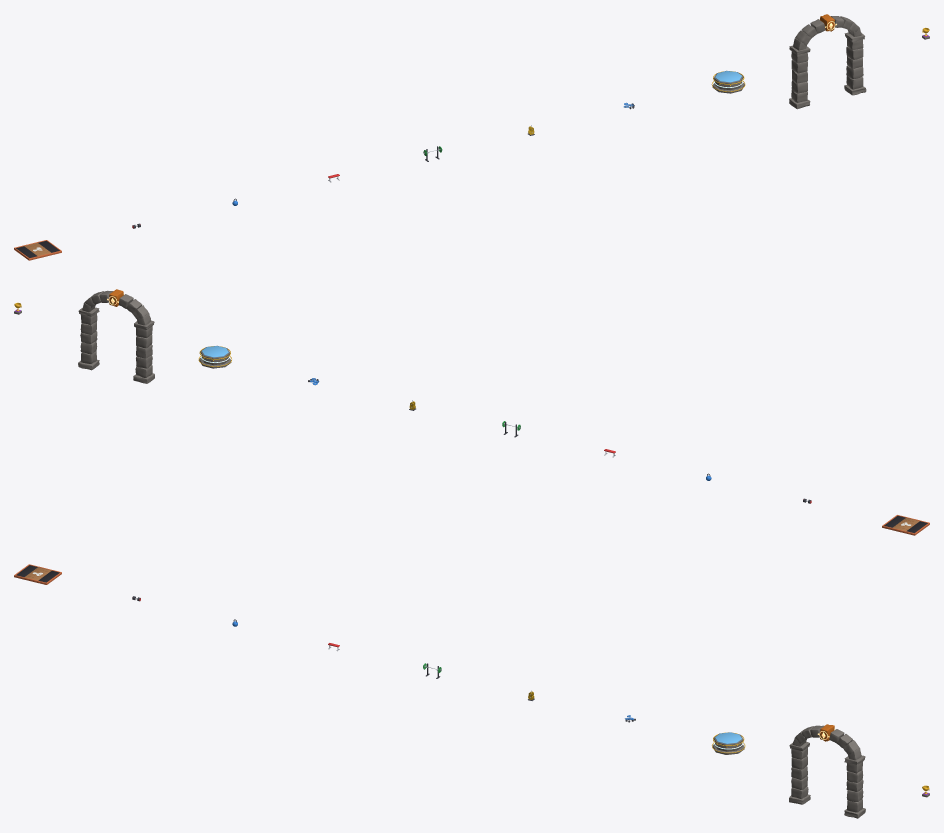
Rendered from Props.fbx.
3 renders of one model, top to bottom at view 1: azimuth 30°, elevation 25°; view 2: azimuth 150°, elevation 25°; view 3: azimuth 330°, elevation 25°, orthographic.
Parts seen in each view (by area): view 1: PortalArch_Stone; view 2: PortalArch_Stone; view 3: PortalArch_Stone.
Part boxes in pixels (x1,y1,x2,y2): PortalArch_Stone: [789, 16, 866, 109]; PortalArch_Stone: [78, 290, 154, 383]; PortalArch_Stone: [789, 725, 865, 818].
Bounding box in the file's own units: 27616 × 2348 × 886.
